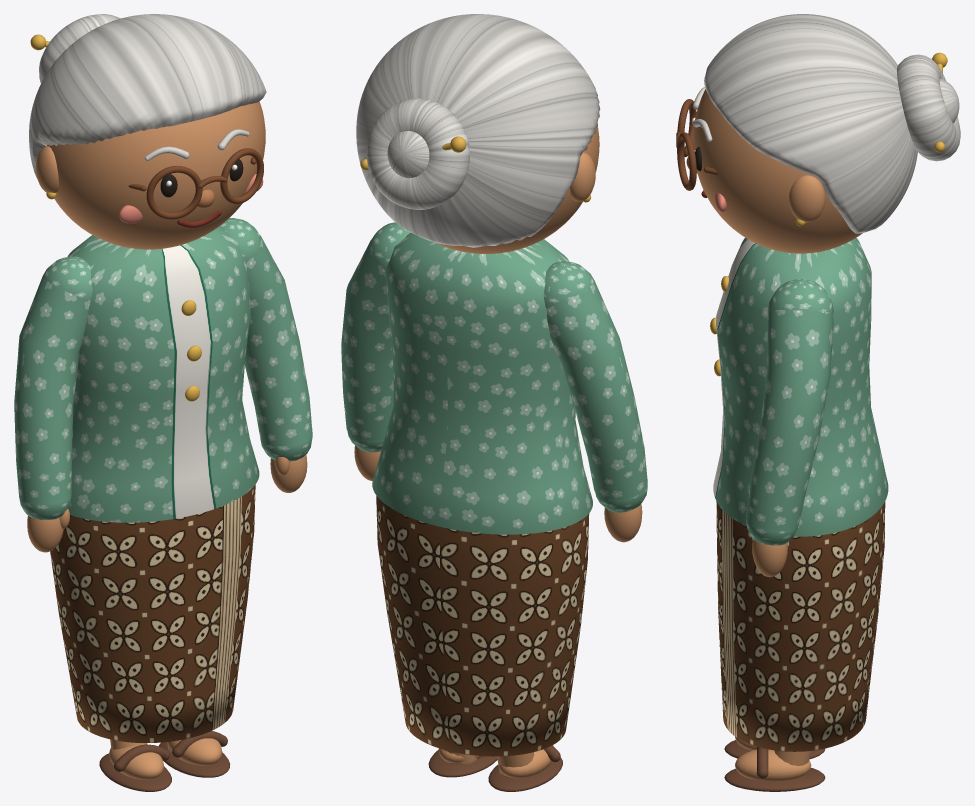
The model's file is elder_female.glb.
3 views of the same model, side by side, from view 1: azimuth 30°, elevation 25°; view 2: azimuth 150°, elevation 25°; view 3: azimuth 270°, elevation 25° (orthographic). The views are drawn at different scales.
Visible parts, largest first — view 1: kebaya, jarik, kebaya_sleeve, hair, skin, sandal, frame, gold, brow; view 2: kebaya, hair, jarik, kebaya_sleeve, skin, sandal; view 3: hair, jarik, kebaya, kebaya_sleeve, skin, sandal, frame, gold.
Part boxes in pixels (<box>): kebaya: <box>67,226,259,522</box>; jarik: <box>50,485,255,742</box>; kebaya_sleeve: <box>14,218,312,520</box>; hair: <box>29,14,266,178</box>; skin: <box>27,101,307,780</box>; sandal: <box>99,731,230,791</box>; frame: <box>128,148,263,219</box>; gold: <box>30,34,201,401</box>; brow: <box>144,129,249,160</box>; kebaya: <box>372,232,592,534</box>; hair: <box>356,14,600,247</box>; jarik: <box>376,496,589,756</box>; kebaya_sleeve: <box>341,222,647,512</box>; skin: <box>354,125,642,778</box>; sandal: <box>428,745,562,791</box>; hair: <box>704,14,960,233</box>; jarik: <box>716,501,885,751</box>; kebaya: <box>713,237,888,536</box>; kebaya_sleeve: <box>746,279,833,545</box>; skin: <box>693,89,862,781</box>; sandal: <box>724,740,825,791</box>; frame: <box>676,99,717,190</box>; gold: <box>710,52,947,376</box>.
Size of the model in its own units: 0.5424 by 1.33 by 0.4612.
Materials: 14 (4 with a texture image).
